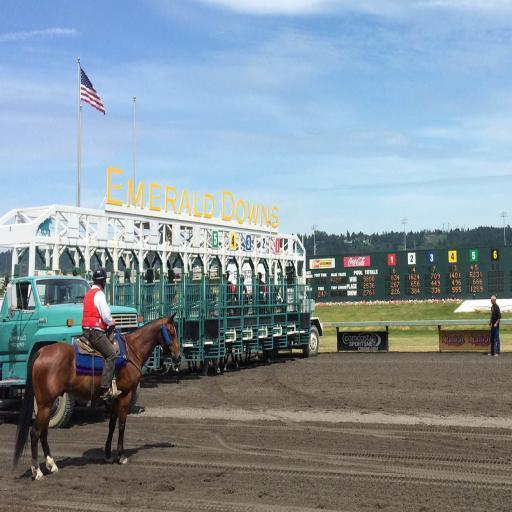horse: (12, 310, 182, 482)
